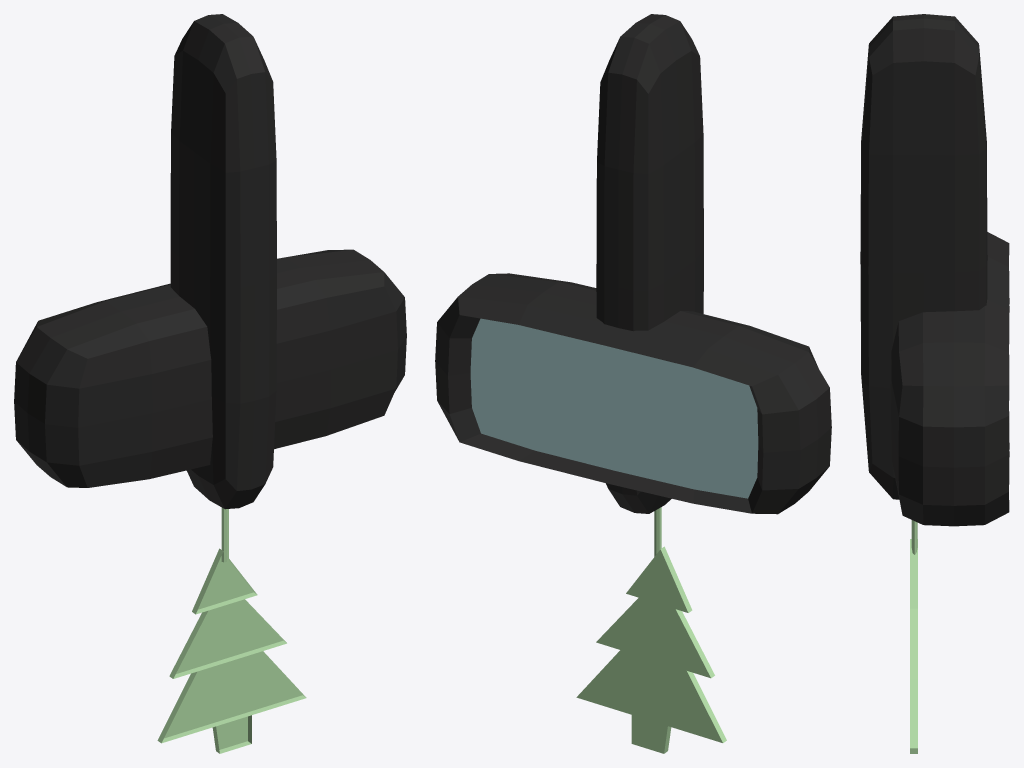
Rendered from rückspiegel mit wunderbaum.fbx.
The picture shows the model from 3 angles, left to right: view 1: azimuth 30°, elevation 25°; view 2: azimuth 150°, elevation 25°; view 3: azimuth 270°, elevation 25°; orthographic projection.
Visible parts, largest first — view 1: Cube.002, Cylinder.002; view 2: Cube.002, Cylinder.002; view 3: Cube.002, Cylinder.002.
Part boxes in pixels (bbox=[...]): Cube.002: bbox=[14, 14, 406, 509]; Cylinder.002: bbox=[157, 507, 306, 753]; Cube.002: bbox=[435, 14, 831, 514]; Cylinder.002: bbox=[576, 507, 726, 753]; Cube.002: bbox=[860, 14, 1009, 526]; Cylinder.002: bbox=[910, 520, 917, 753].
Bounding box in the file's own units: 65.47 × 124 × 22.95.
